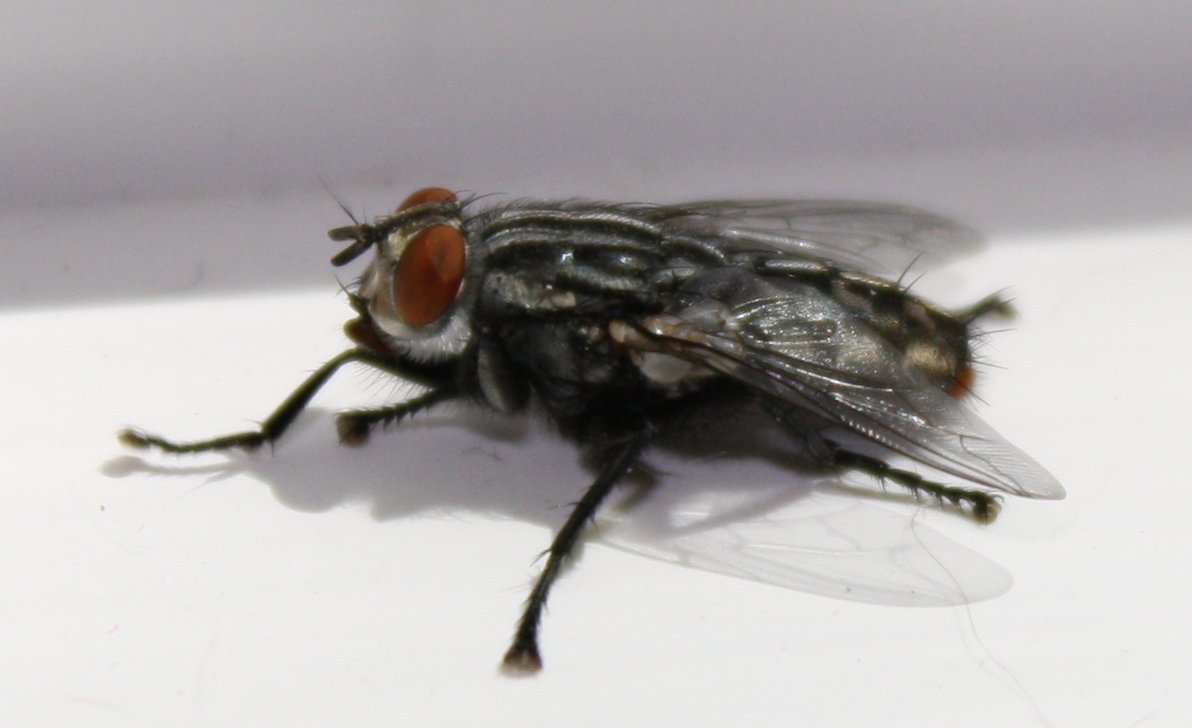fly: (109, 175, 1079, 697)
